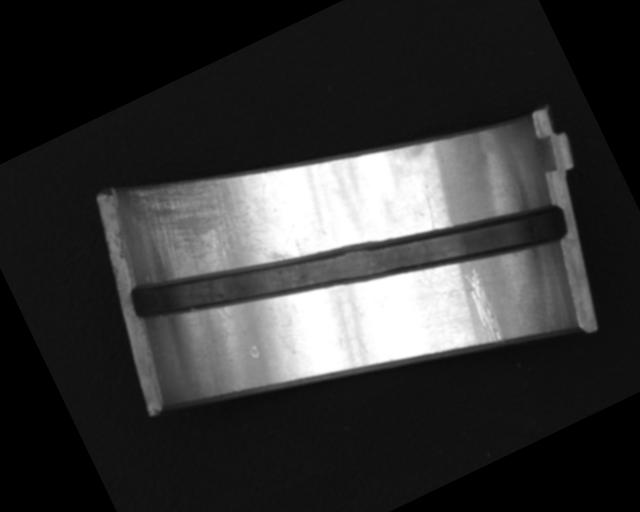bruise: (247, 343, 262, 360)
gap: (125, 105, 575, 419)
nick: (457, 264, 511, 347), (413, 182, 449, 232)
scratch: (114, 137, 295, 316)
